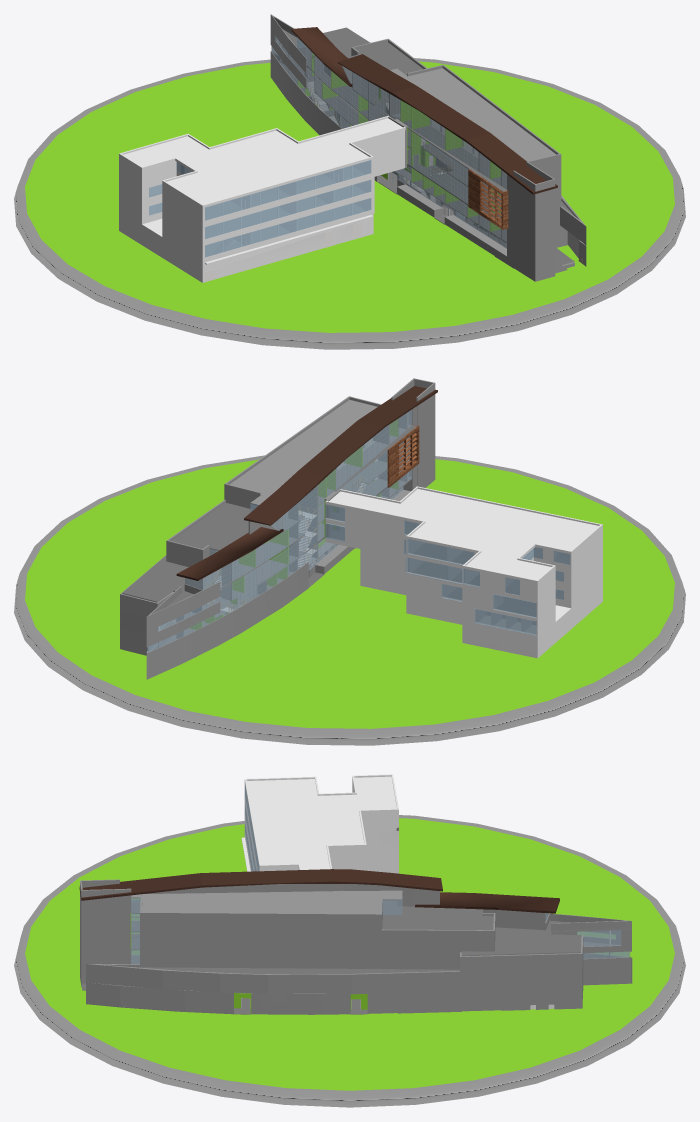
File: iut_site_compress.glb
The picture shows the model from 3 angles, top to bottom: view 1: azimuth 30°, elevation 25°; view 2: azimuth 150°, elevation 25°; view 3: azimuth 270°, elevation 25°; orthographic projection.
Parts seen in each view (by area): view 1: Cylinder, iut, BatimentB, facadeBois; view 2: Cylinder, iut, BatimentB, facadeBois; view 3: Cylinder, iut, BatimentB.
Part boxes in pixels (box(x1,y1,x2,y2)): Cylinder: box(14, 58, 685, 349); iut: box(270, 14, 586, 281); BatimentB: box(119, 115, 405, 282); facadeBois: box(468, 169, 508, 229); Cylinder: box(14, 455, 685, 745); iut: box(120, 378, 437, 679); BatimentB: box(325, 486, 602, 658); facadeBois: box(387, 424, 419, 487); Cylinder: box(14, 815, 685, 1107); iut: box(79, 869, 632, 1014); BatimentB: box(241, 774, 398, 873).
Size of the model in its own units: 99.97 by 18.53 by 99.97.
24 materials, 4 textured.
